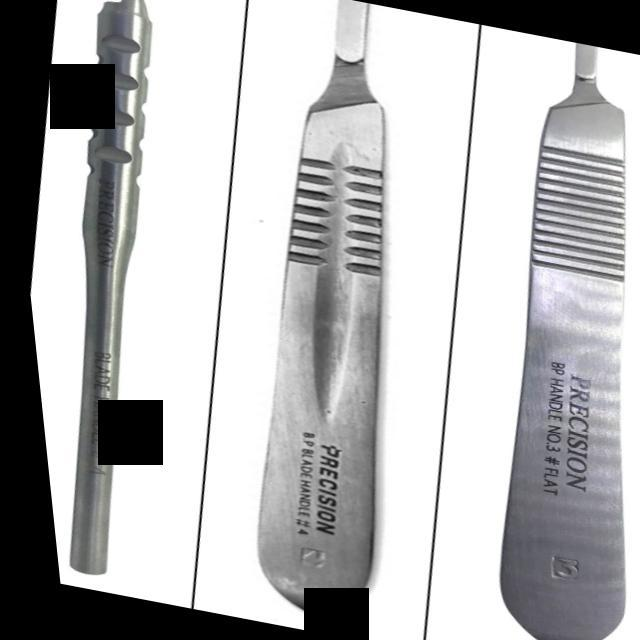Knife handle: (175, 0, 483, 631), (420, 35, 640, 640)
